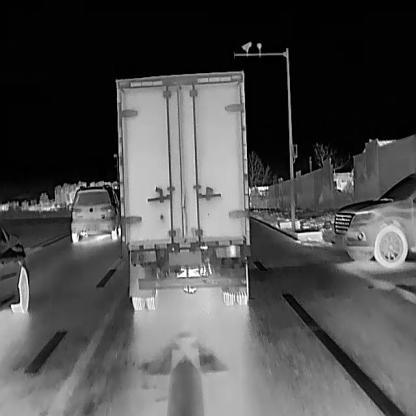car: (114, 68, 250, 312), (333, 170, 415, 270), (67, 182, 122, 242), (0, 223, 29, 315)
